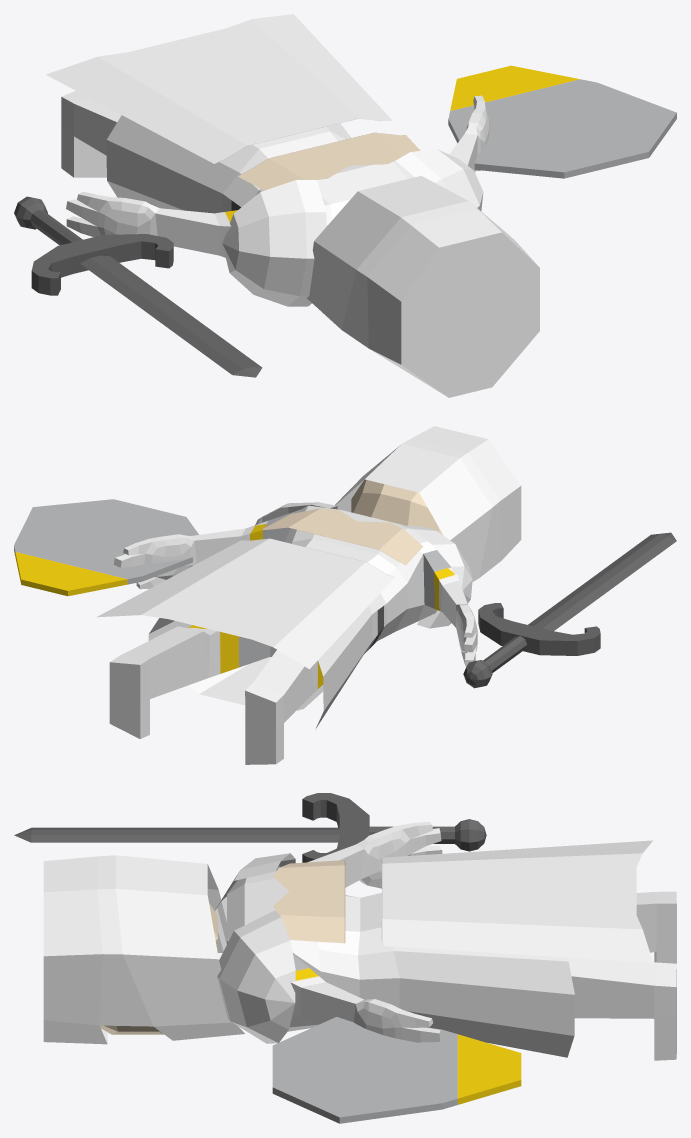
Rendered from knight.obj.
3 views of the same model, one above another, from view 1: azimuth 30°, elevation 25°; view 2: azimuth 150°, elevation 25°; view 3: azimuth 270°, elevation 25° (orthographic). The views are drawn at different scales.
Visible parts, largest first — view 1: male.003_Plane.004; view 2: male.003_Plane.004; view 3: male.003_Plane.004.
Boxes of the visible parts, x1,y1,x2,y2 form: male.003_Plane.004: (14,14,676,397); male.003_Plane.004: (14,426,676,764); male.003_Plane.004: (14,793,676,1123).
Bounding box in the file's own units: 10.42 × 2.48 × 9.1.
Materials: 3 (3 with a texture image).
